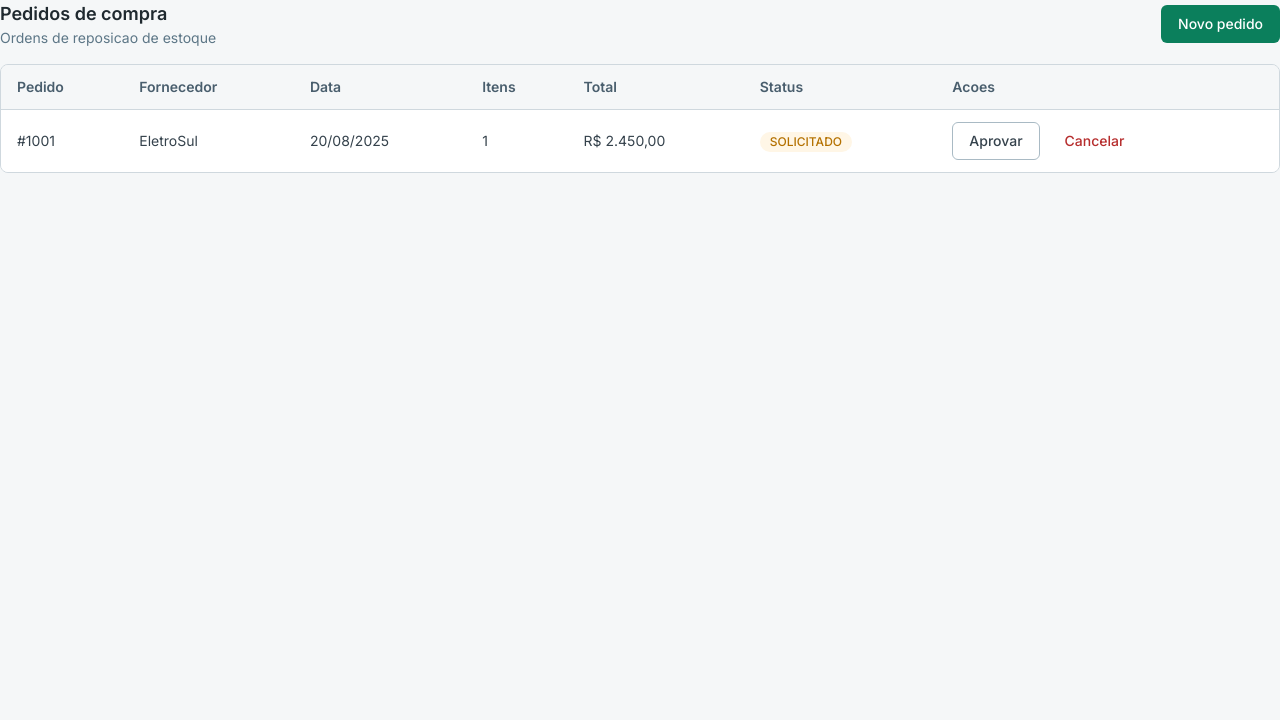
Scenario: Compras › remove um item da lista antes de criar o pedido
The width and height of the screenshot is (1280, 720).
Expected: the text "#1001" is shown, [1,110,123,172]
Click the button "Novo pedido" at (1221, 24), box [1161,5,1279,43]
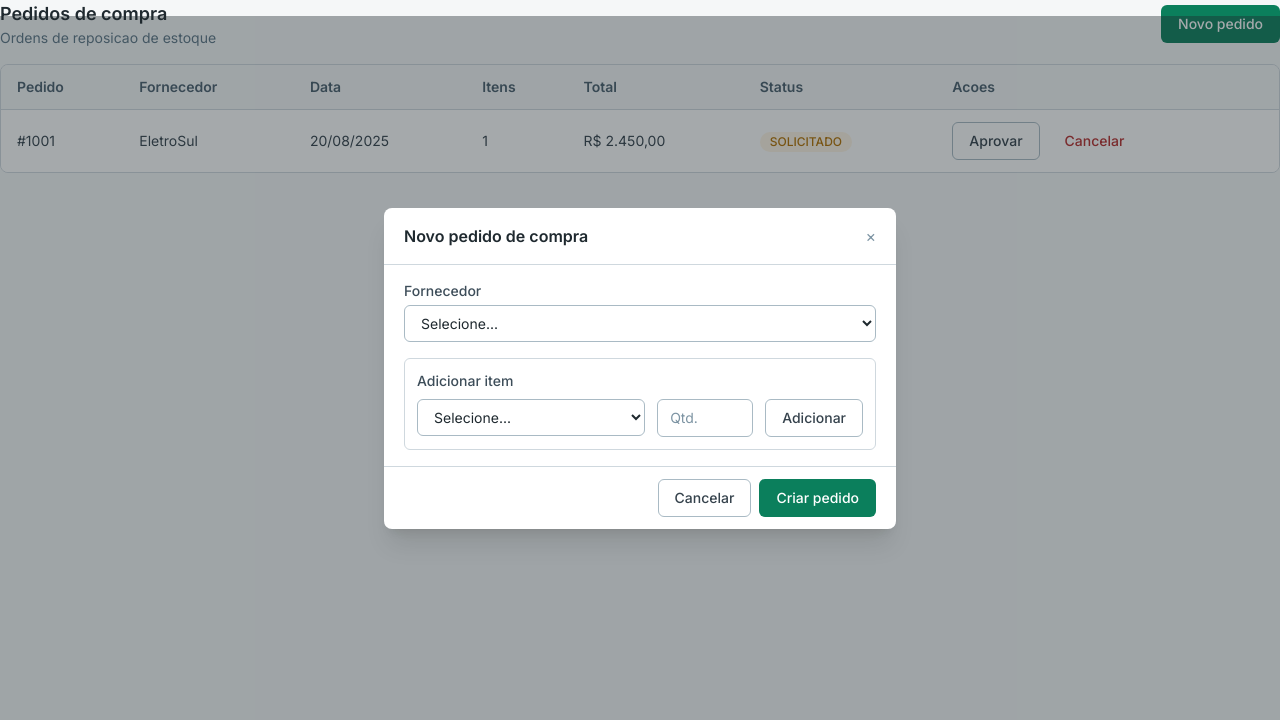
Expected: the dialog is shown, [384,208,896,528]
Select "EletroSul" in the dropdown labelled "Fornecedor" at (640, 323), box [404,304,876,342]
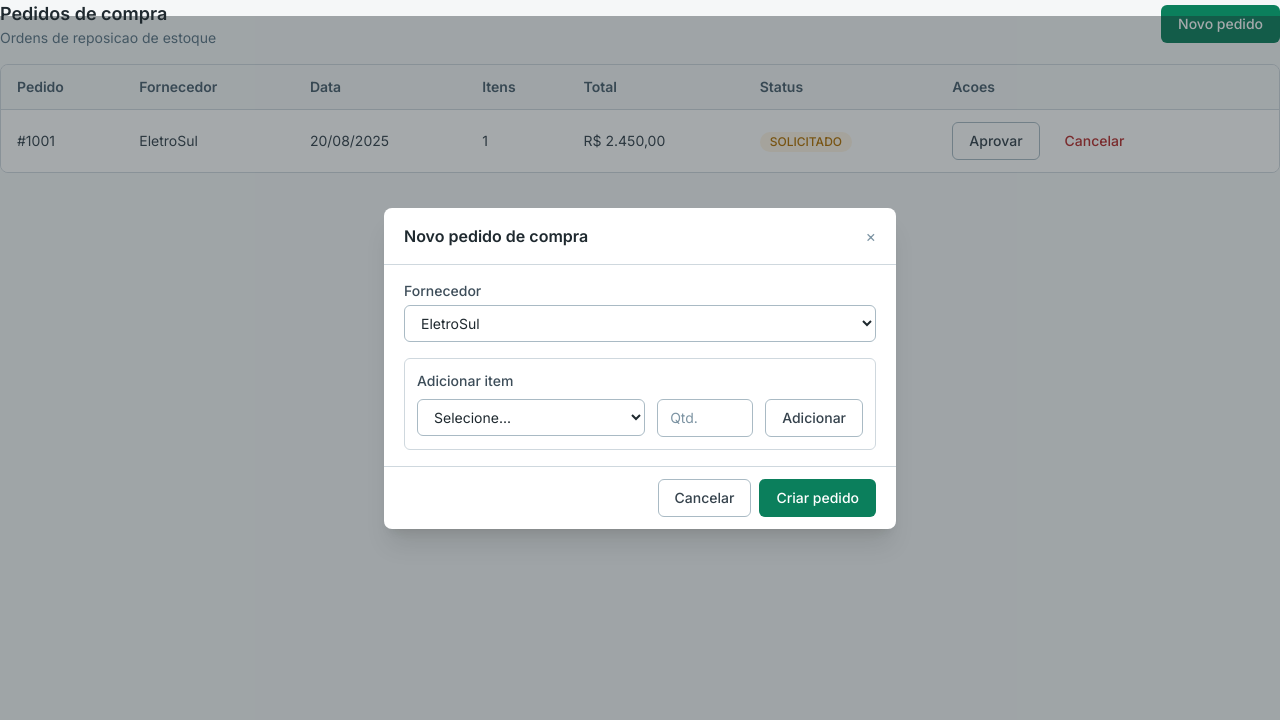
Select "Cabo Flexivel" in the dropdown named "Produto do item" at (531, 417), box [417,398,645,436]
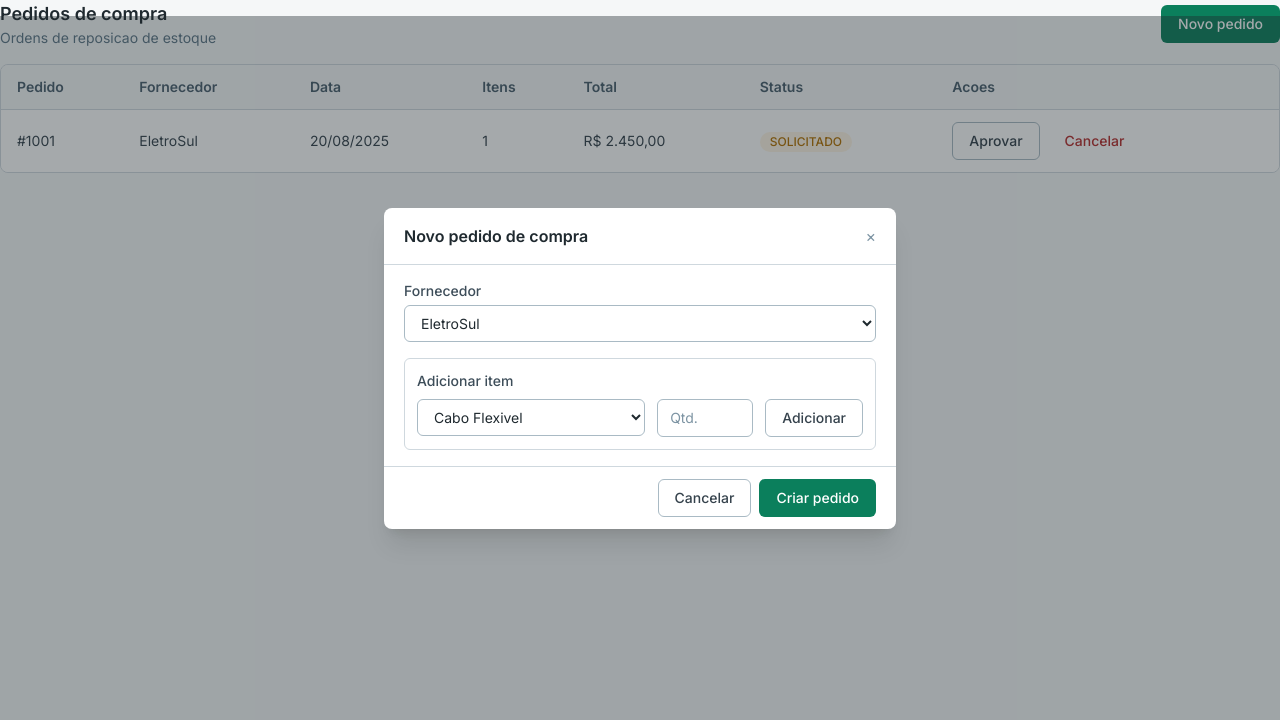
Type "5" into the number field named "Quantidade do item" at (705, 418), box [657,398,753,436]
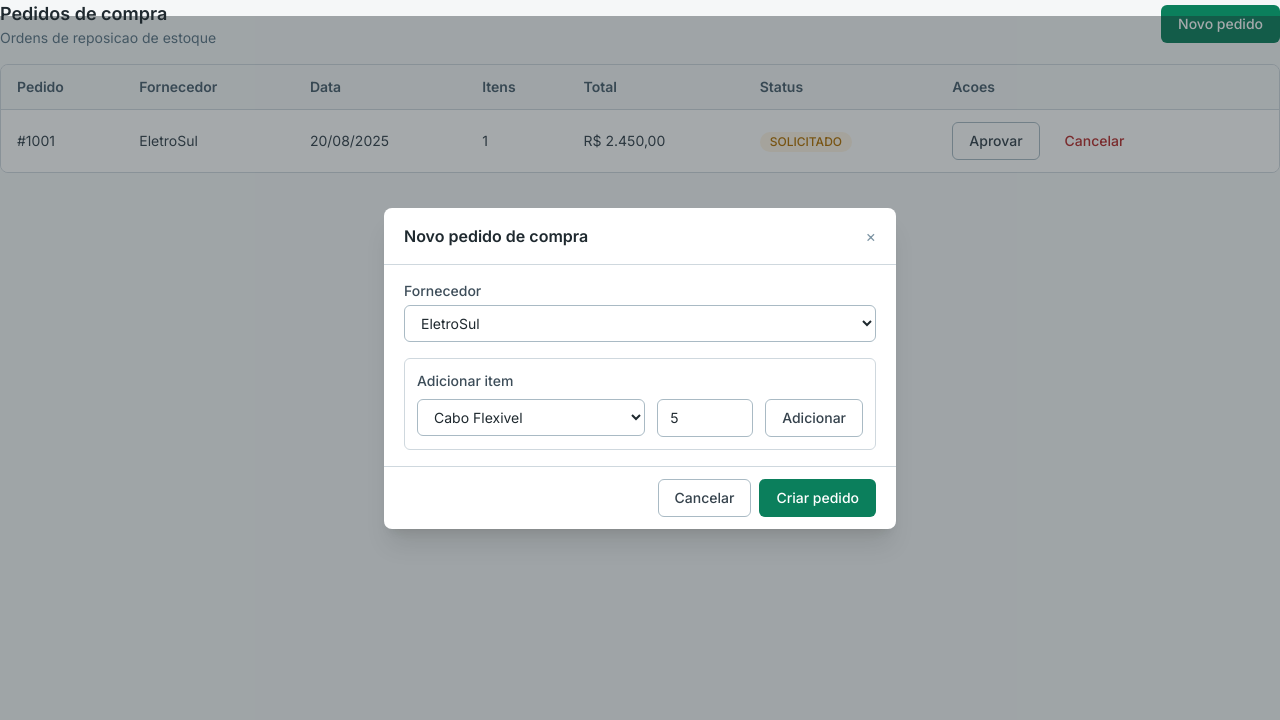
Click the button "Adicionar" at (814, 418), box [765,398,863,436]
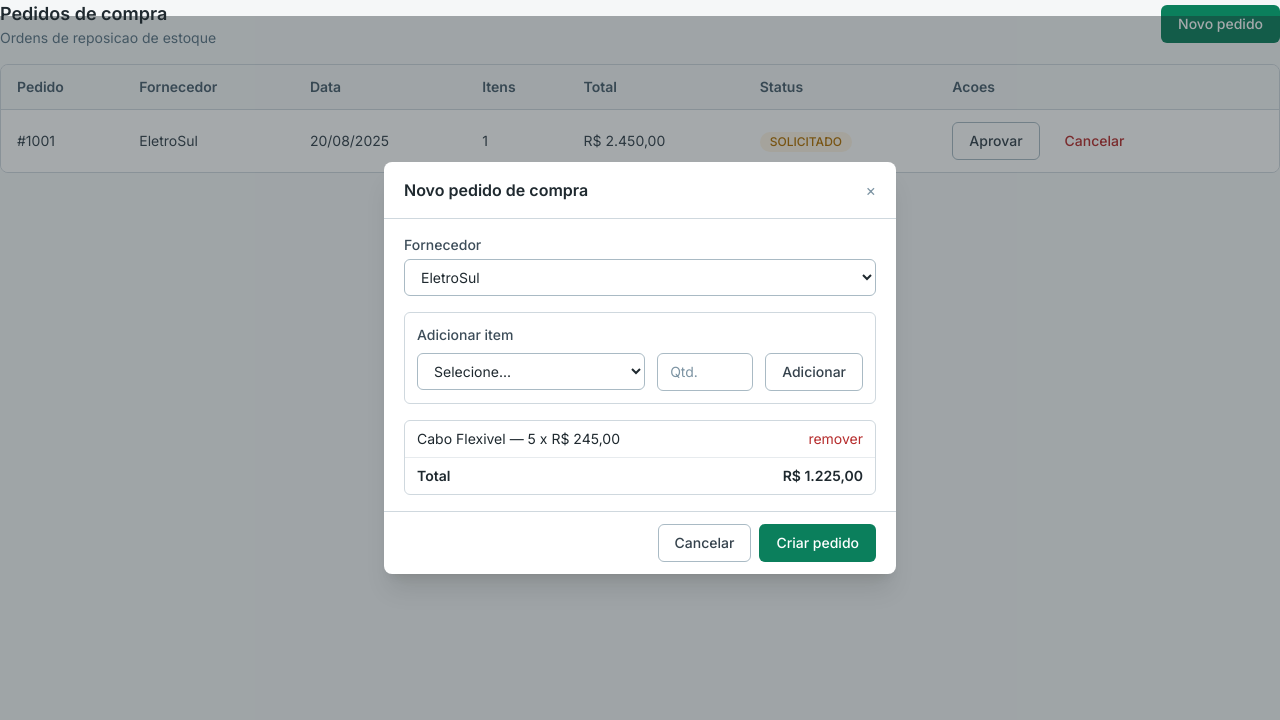
Expected: the button "remover" is shown
Click the button "remover" at (836, 439), box [808,429,863,449]
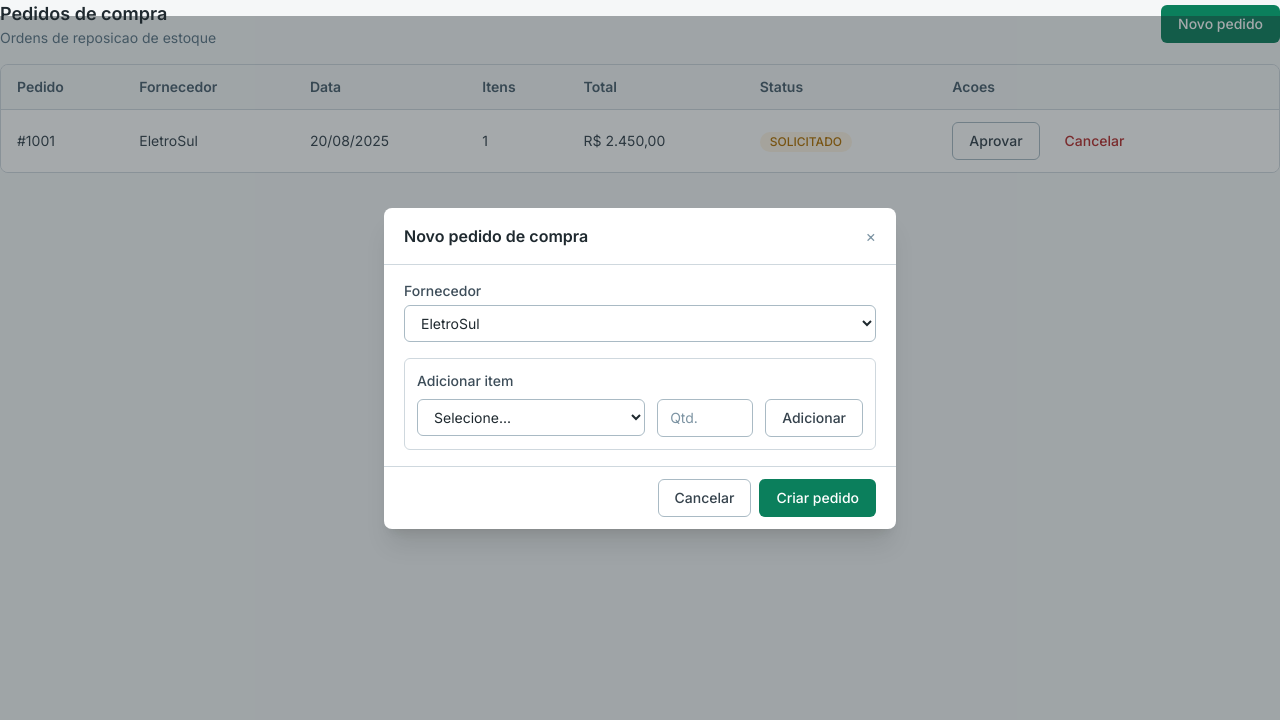
Expected: the button "remover" is gone
